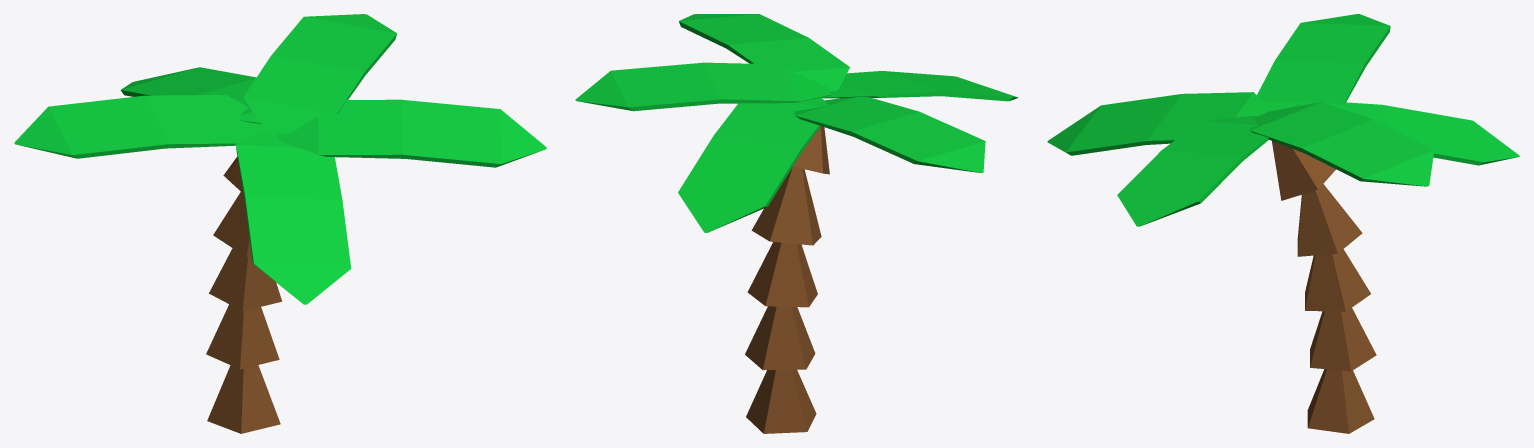
Rendered from Tree.fbx.
3 renders of one model, left to right at view 1: azimuth 30°, elevation 25°; view 2: azimuth 150°, elevation 25°; view 3: azimuth 270°, elevation 25°, orthographic. The views are drawn at different scales.
Visible parts, largest first — view 1: Cube, Cube.003, Cube.001, Cube.005, Cylinder, Cube.002; view 2: Cylinder, Cube.002, Cube.005, Cube.001, Cube.003, Cube; view 3: Cylinder, Cube.005, Cube.003, Cube.001, Cube, Cube.002.
Boxes of the visible parts, bbox=[...] form: Cube: bbox=[236, 130, 351, 304]; Cube.003: bbox=[277, 99, 546, 167]; Cube.001: bbox=[14, 95, 264, 158]; Cube.005: bbox=[243, 14, 396, 134]; Cylinder: bbox=[206, 156, 282, 433]; Cube.002: bbox=[121, 67, 260, 123]; Cylinder: bbox=[745, 126, 829, 433]; Cube.002: bbox=[678, 97, 827, 232]; Cube.005: bbox=[575, 62, 831, 111]; Cube.001: bbox=[794, 97, 985, 172]; Cube.003: bbox=[679, 14, 849, 91]; Cube: bbox=[821, 71, 1018, 101]; Cylinder: bbox=[1272, 141, 1376, 433]; Cube.005: bbox=[1250, 102, 1434, 186]; Cube.003: bbox=[1117, 116, 1268, 226]; Cube.001: bbox=[1257, 14, 1390, 110]; Cube: bbox=[1047, 92, 1271, 155]; Cube.002: bbox=[1290, 102, 1519, 165].
Bounding box in the file's own units: 643 × 497 × 665.
Materials: 2 (2 with a texture image).
